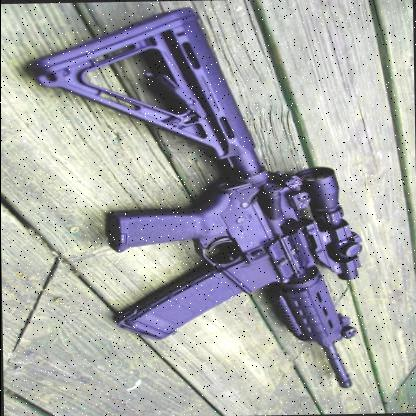rifle: (34, 1, 390, 397)
